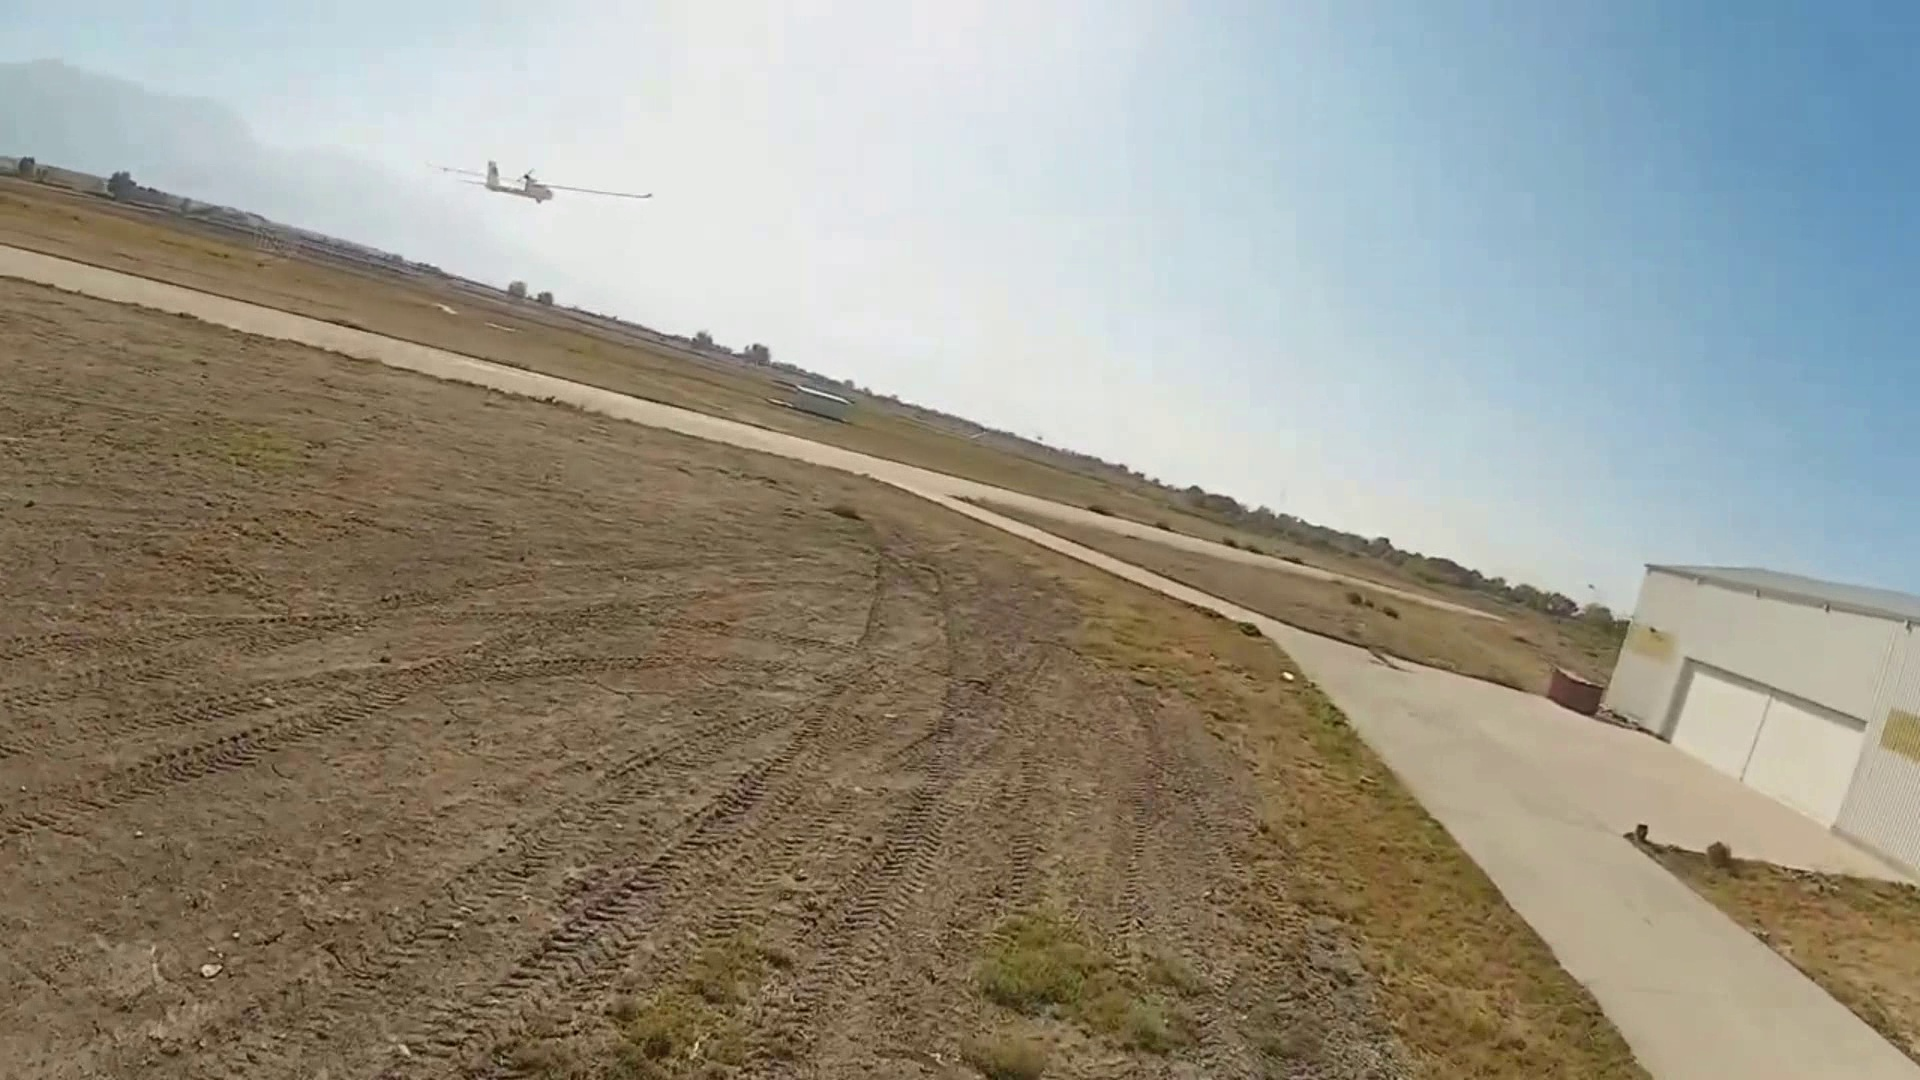airplane: (478, 159, 652, 207)
